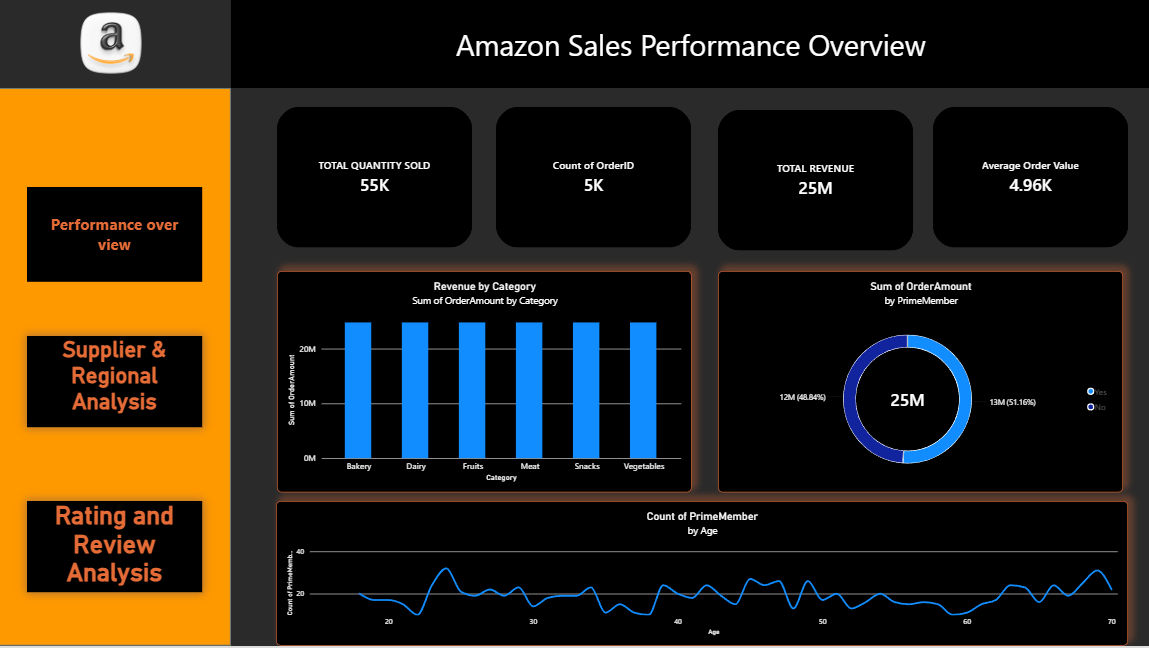

What the dashboard file says about the page in this screenshot:
{"tool":"powerbi","page":{"name":"Page 1","canvas":[1920,1080],"ordinal":0},"visuals":[{"type":"cardVisual","fields":{"Data":["Sum(orders.OrderAmount)"]},"box":[1199.9,185.8,325.9,234.3],"z":0},{"type":"cardVisual","fields":{"Data":["Sum(order_details.Quantity)"]},"box":[464.6,182.1,325.9,234.3],"z":1000},{"type":"cardVisual","fields":{"Data":["Count(orders.OrderID)"]},"box":[830.2,182.1,325.9,234.3],"z":2000},{"type":"cardVisual","fields":{"Data":["orders.Average Order Value"]},"box":[1558.1,181.8,325.9,234.3],"z":3000},{"type":"shape","box":[0,150.4,387.5,929],"z":4000},{"type":"columnChart","title":"Revenue by Category","fields":{"Y":["Sum(orders.OrderAmount)"],"Category":["products.Category"]},"box":[464.6,455.2,690.8,369],"z":5000},{"type":"donutChart","fields":{"Y":["Sum(orders.OrderAmount)"],"Category":["customers.PrimeMember"]},"box":[1199.9,455.2,674.7,369],"z":6000},{"type":"textbox","title":".","box":[387.5,0,1532.5,150.4],"z":7000},{"type":"textbox","box":[0,0,388,150],"z":8000},{"type":"actionButton","box":[48.3,315,291.7,158.3],"z":9000},{"type":"lineChart","fields":{"Y":["CountNonNull(customers.PrimeMember)"],"Category":["customers.Age"]},"box":[464,838.9,1419.6,240.7],"z":10000},{"type":"actionButton","title":"Supplier & Regional Analysis","box":[48.3,563.3,291.7,151.7],"z":11000},{"type":"actionButton","title":"Rating and Review Analysis","box":[48.3,838.3,291.7,151.7],"z":12000},{"type":"image","box":[38.3,0,300,150],"z":12001}]}

Visuals, with their boxes in screenshot pixels (x1, y1, x2, y2), scaled from the page's 1920x1080 canvas onto the 1149x648 screenshot:
cardVisual - Sum(orders.OrderAmount): [x1=718, y1=111, x2=913, y2=252]
cardVisual - Sum(order_details.Quantity): [x1=278, y1=109, x2=473, y2=250]
cardVisual - Count(orders.OrderID): [x1=497, y1=109, x2=692, y2=250]
cardVisual - orders.Average Order Value: [x1=932, y1=109, x2=1127, y2=250]
shape: [x1=0, y1=90, x2=232, y2=647]
"Revenue by Category" columnChart: [x1=278, y1=273, x2=691, y2=495]
donutChart - Sum(orders.OrderAmount) x customers.PrimeMember: [x1=718, y1=273, x2=1122, y2=495]
"." textbox: [x1=232, y1=0, x2=1148, y2=90]
textbox: [x1=0, y1=0, x2=232, y2=90]
actionButton: [x1=29, y1=189, x2=203, y2=284]
lineChart - CountNonNull(customers.PrimeMember) x customers.Age: [x1=278, y1=503, x2=1127, y2=647]
"Supplier & Regional Analysis" actionButton: [x1=29, y1=338, x2=203, y2=429]
"Rating and Review Analysis" actionButton: [x1=29, y1=503, x2=203, y2=594]
image: [x1=23, y1=0, x2=202, y2=90]
